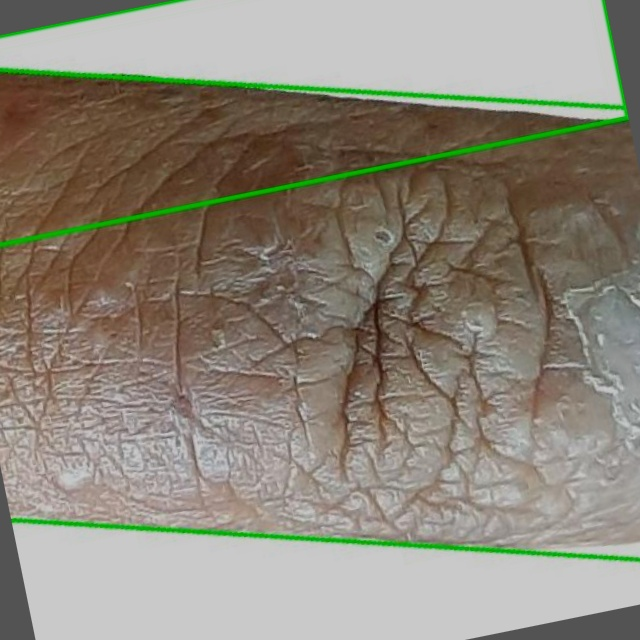Eczema: (0, 72, 639, 556), (0, 0, 628, 244)
